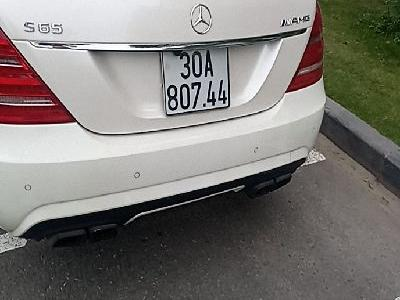car: (159, 48, 232, 117)
